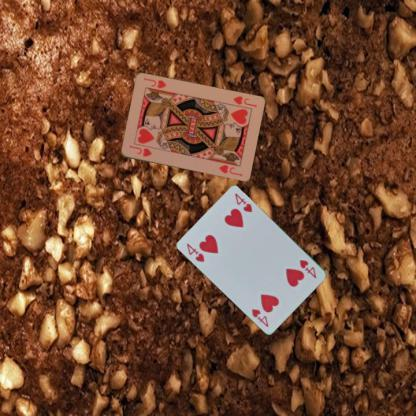4h: (184, 240, 206, 263), (297, 257, 318, 280)
Jh: (227, 93, 258, 110), (127, 142, 154, 158)
